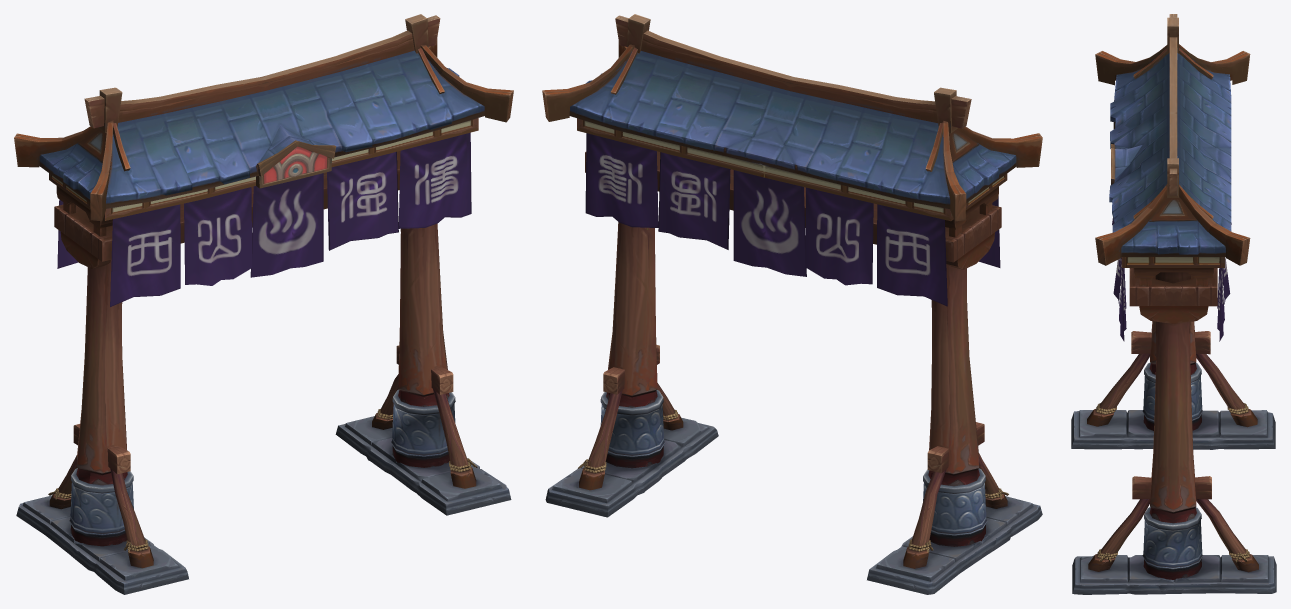
The picture shows the model from 3 angles, left to right: view 1: azimuth 30°, elevation 25°; view 2: azimuth 150°, elevation 25°; view 3: azimuth 270°, elevation 25°; orthographic projection. The views are drawn at different scales.
Parts seen in each view (by area): view 1: wq_jz008_01; view 2: wq_jz008_01; view 3: wq_jz008_01.
Part boxes in pixels (x1=…): wq_jz008_01: x1=14, y1=14, x2=513, y2=594; wq_jz008_01: x1=542, y1=14, x2=1042, y2=594; wq_jz008_01: x1=1071, y1=14, x2=1276, y2=594.
Bounding box in the file's own units: 523 × 536 × 239.
Materials: 1 (1 with a texture image).
